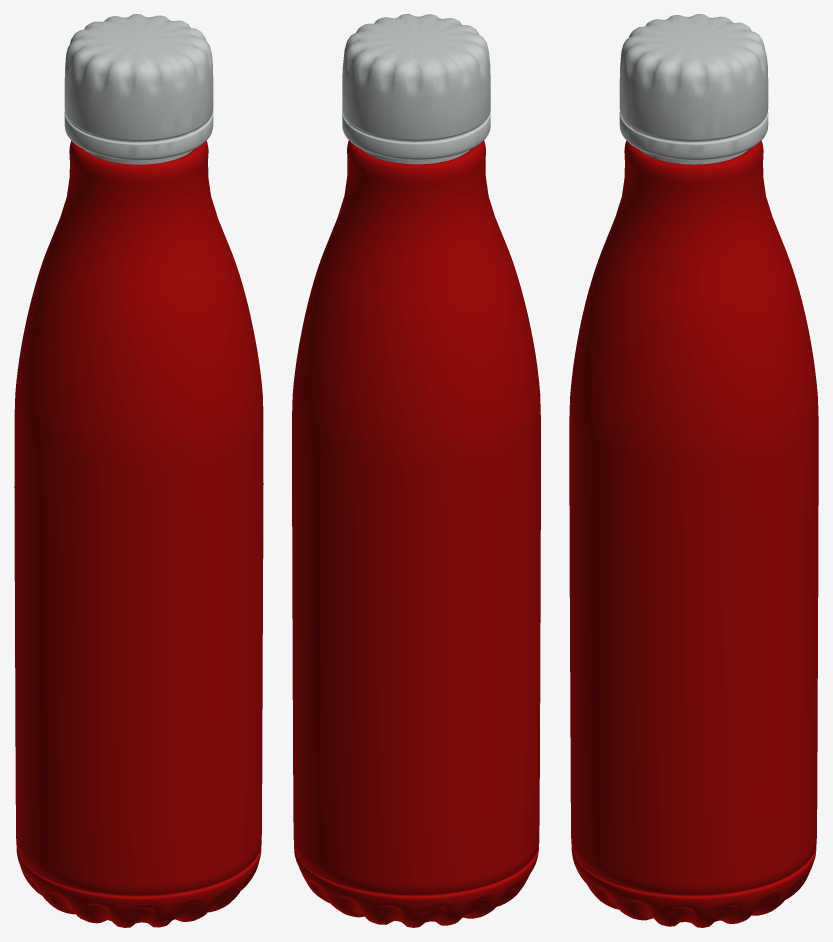
File: water-bottle.glb
3 views of the same model, side by side, from view 1: azimuth 30°, elevation 25°; view 2: azimuth 150°, elevation 25°; view 3: azimuth 270°, elevation 25° (orthographic).
Visible parts, largest first — view 1: Cylinder_001__0; view 2: Cylinder_001__0; view 3: Cylinder_001__0.
Boxes of the visible parts, bbox=[...] form: Cylinder_001__0: bbox=[14, 14, 263, 927]; Cylinder_001__0: bbox=[292, 14, 540, 927]; Cylinder_001__0: bbox=[569, 14, 818, 927].
Bounding box in the file's own units: 0.0659 × 0.25 × 0.0659.
1 material, 1 textured.
